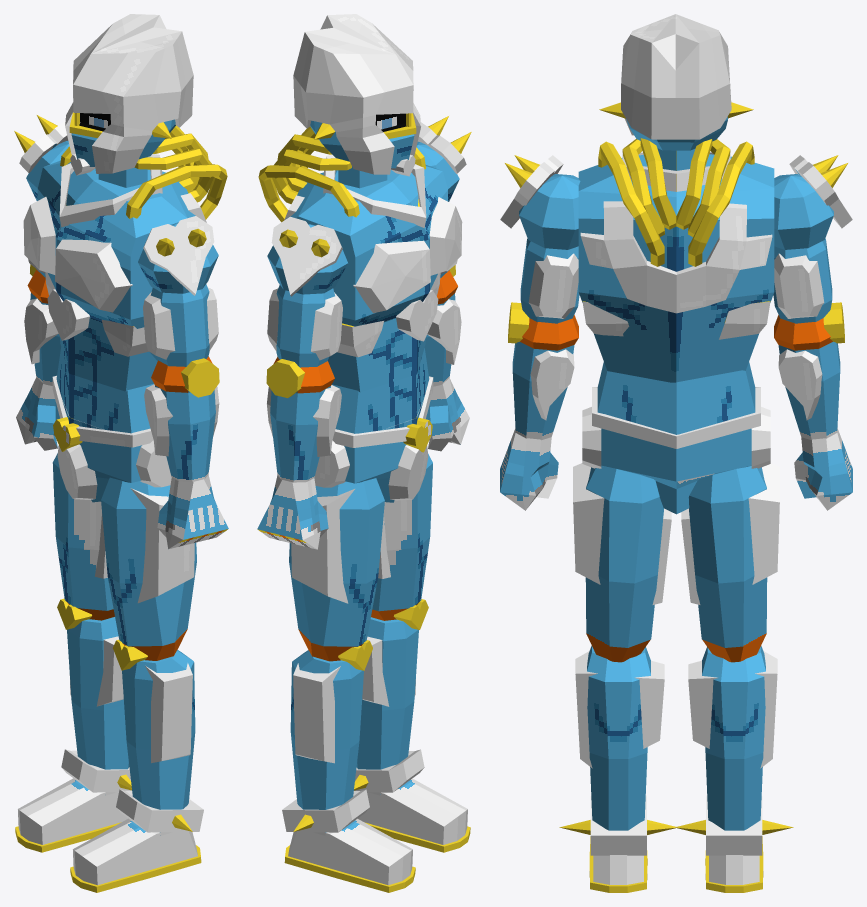
The model's file is CrazyA.glb.
3 views of the same model, side by side, from view 1: azimuth 30°, elevation 25°; view 2: azimuth 150°, elevation 25°; view 3: azimuth 270°, elevation 25° (orthographic). The views are drawn at different scales.
Parts seen in each view (by area): view 1: Torso, Cabeça, Perna Baixo E, Perna Cima E, Perna Baixo D, Braço Cima E, Braço Baixo E, Pélvis, Pé E, Perna Cima D, Pé D, Pélvis 2 (+4 smaller); view 2: Torso, Cabeça, Perna Baixo D, Perna Cima D, Perna Baixo E, Braço Cima D, Braço Baixo D, Pélvis, Pé D, Perna Cima E, Pé E, Pélvis 2 (+4 smaller); view 3: Torso, Perna Cima D, Perna Cima E, Perna Baixo E, Perna Baixo D, Cabeça, Pélvis, Braço Cima E, Braço Cima D, Pélvis 2, Braço Baixo E, Braço Baixo D (+4 smaller).
Boxes of the visible parts, x1,y1,x2,y2 form: Torso: (23, 125, 227, 391); Cabeça: (65, 14, 193, 173); Perna Baixo E: (113, 639, 203, 835); Perna Cima E: (101, 477, 196, 660); Perna Baixo D: (57, 598, 131, 795); Braço Cima E: (138, 216, 218, 366); Braço Baixo E: (144, 356, 219, 481); Pélvis: (52, 375, 171, 502); Pé E: (70, 818, 201, 892); Perna Cima D: (52, 453, 114, 620); Pé D: (15, 778, 127, 852); Pélvis 2: (56, 347, 153, 433); Torso: (258, 126, 462, 392); Cabeça: (293, 14, 421, 174); Perna Baixo D: (282, 640, 372, 835); Perna Cima D: (289, 478, 384, 661); Perna Baixo E: (354, 599, 428, 795); Braço Cima D: (267, 216, 347, 367); Braço Baixo D: (266, 357, 341, 482); Pélvis: (314, 376, 433, 502); Pé D: (284, 818, 415, 892); Perna Cima E: (371, 453, 432, 620); Pé E: (358, 778, 470, 852); Pélvis 2: (331, 348, 429, 433); Torso: (578, 138, 774, 382); Perna Cima D: (681, 463, 779, 662); Perna Cima E: (573, 463, 671, 662); Perna Baixo E: (559, 646, 676, 855); Perna Baixo D: (676, 646, 793, 855); Cabeça: (599, 14, 753, 150); Pélvis: (582, 387, 770, 514); Braço Cima E: (500, 155, 580, 323); Braço Cima D: (773, 155, 852, 323); Pélvis 2: (597, 362, 755, 434); Braço Baixo E: (508, 302, 578, 440); Braço Baixo D: (774, 302, 844, 440).
Bounding box in the file's own units: 2.11 × 10.06 × 3.75.
Materials: 5 (5 with a texture image).
